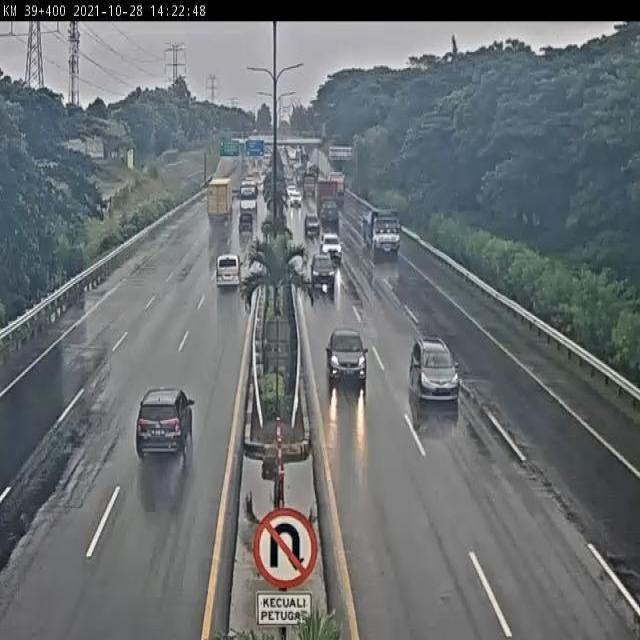car: (407, 333, 465, 411), (135, 387, 196, 460), (323, 325, 370, 395), (309, 252, 338, 300), (215, 252, 243, 287)
truck-l-: (361, 210, 403, 262)
